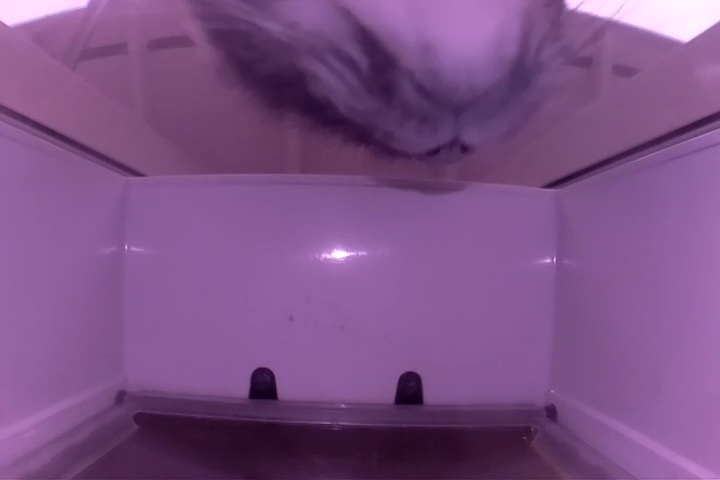Snout: (355, 20, 537, 167)
